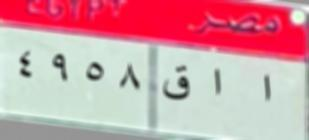4: (16, 49, 37, 82)
5: (85, 58, 103, 86)
8: (118, 62, 140, 94)
9: (48, 53, 70, 83)
alif: (254, 69, 275, 110), (207, 66, 225, 100)
qaaf: (163, 64, 191, 104)
